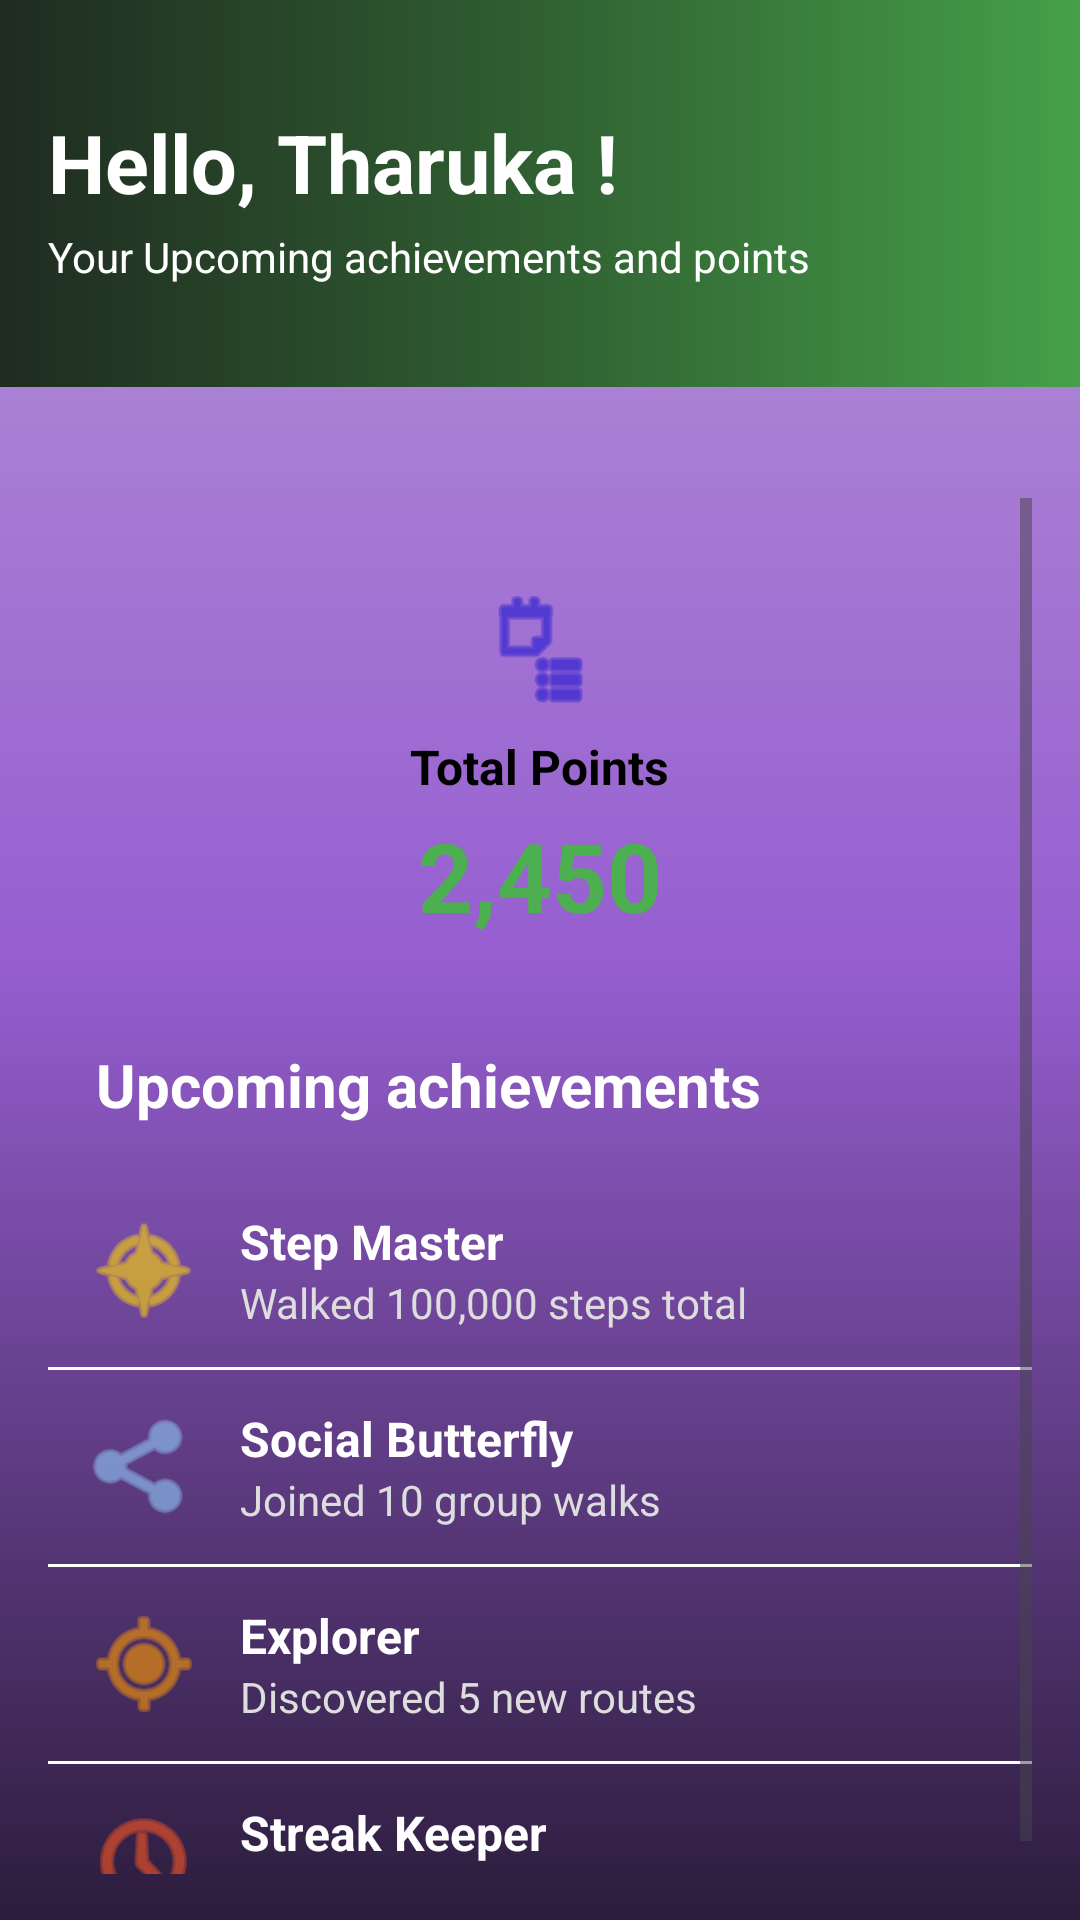

Icons on this 1080px x 1920px Android screen, each with the point to tap as (x=x, y=y):
agenda: (x=541, y=649)
compass: (x=143, y=1270)
mylocation: (x=144, y=1658)
share: (x=144, y=1473)
